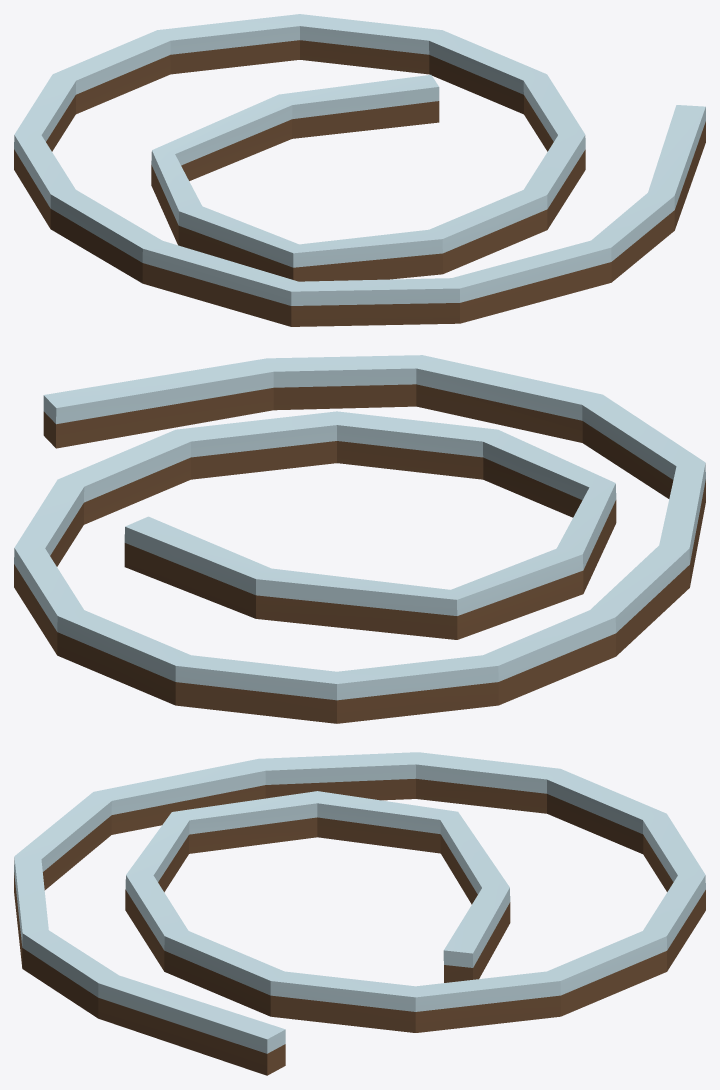
The model's file is Cuerda02.glb.
The picture shows the model from 3 angles, top to bottom: view 1: azimuth 30°, elevation 25°; view 2: azimuth 150°, elevation 25°; view 3: azimuth 270°, elevation 25°; orthographic projection. The views are drawn at different scales.
Visible parts, largest first — view 1: SM_Prop_Rope_02_Snow; view 2: SM_Prop_Rope_02_Snow; view 3: SM_Prop_Rope_02_Snow.
Boxes of the visible parts, bbox=[...] form: SM_Prop_Rope_02_Snow: bbox=[14, 14, 705, 326]; SM_Prop_Rope_02_Snow: bbox=[14, 355, 705, 723]; SM_Prop_Rope_02_Snow: bbox=[14, 752, 705, 1075].
Size of the model in its own units: 1.17 by 0.0691 by 1.19.
Materials: 1 (1 with a texture image).
